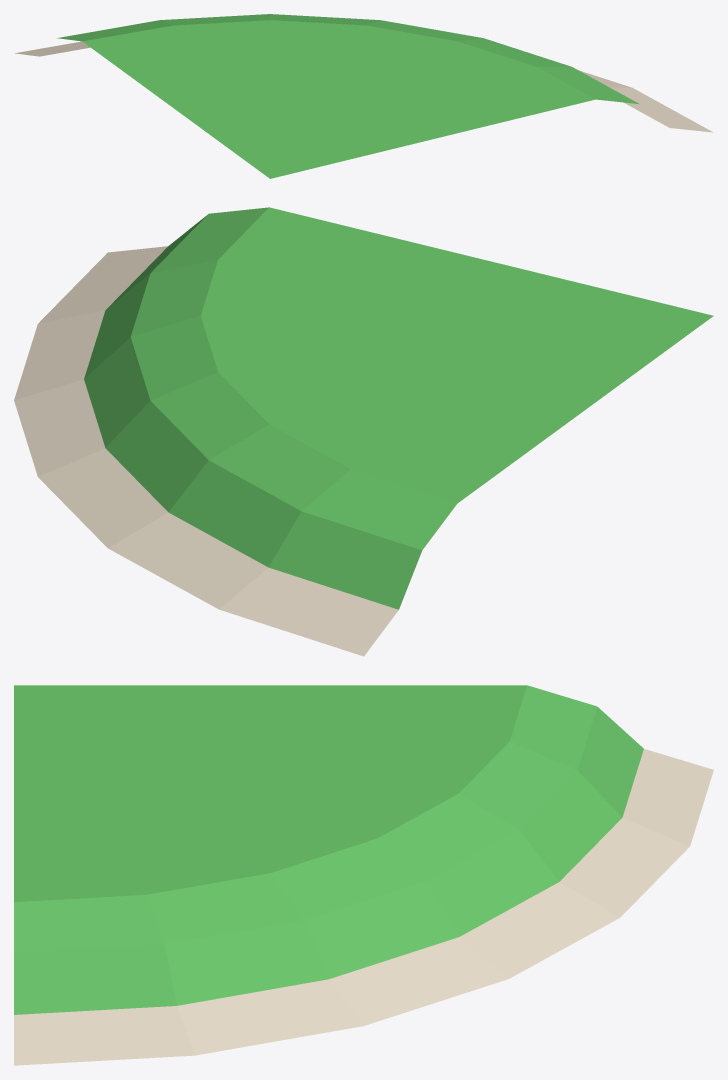
File: Hilly_Terrain_Path_Corner_Inner_2x2.glb
3 renders of one model, top to bottom at view 1: azimuth 30°, elevation 25°; view 2: azimuth 150°, elevation 25°; view 3: azimuth 270°, elevation 25°, orthographic. The views are drawn at different scales.
Parts seen in each view (by area): view 1: Hilly_Terrain_Path_Corner_Inner_2x2; view 2: Hilly_Terrain_Path_Corner_Inner_2x2; view 3: Hilly_Terrain_Path_Corner_Inner_2x2.
Boxes of the visible parts, <box> form: Hilly_Terrain_Path_Corner_Inner_2x2: <box>15,14,713,178</box>; Hilly_Terrain_Path_Corner_Inner_2x2: <box>14,207,713,656</box>; Hilly_Terrain_Path_Corner_Inner_2x2: <box>14,685,713,1065</box>.
Size of the model in its own units: 1.5 by 0.2 by 1.5.
